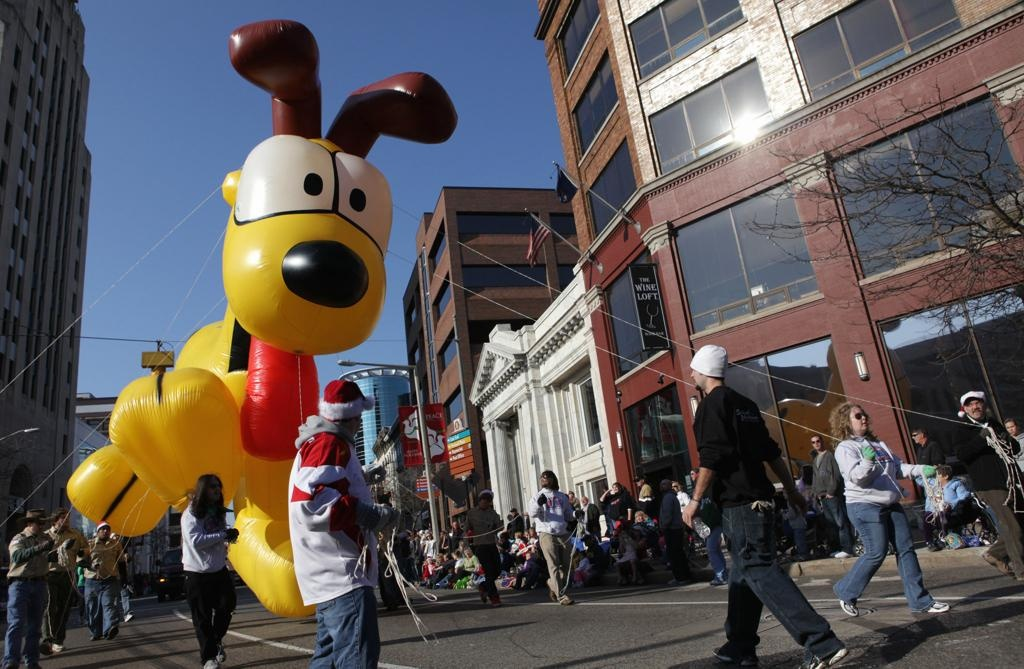human_face: (846, 406, 868, 430), (343, 411, 363, 431), (966, 399, 982, 419), (689, 367, 705, 386), (206, 480, 220, 500), (30, 518, 44, 534), (1002, 420, 1016, 435), (57, 512, 69, 526), (910, 431, 922, 444), (98, 526, 110, 538), (934, 470, 944, 482), (810, 437, 820, 449), (670, 482, 680, 492), (689, 470, 697, 482), (540, 474, 548, 486), (660, 479, 668, 490), (635, 512, 643, 522), (480, 497, 488, 507), (634, 478, 642, 486), (610, 484, 618, 492), (782, 491, 788, 499), (463, 548, 469, 556), (581, 498, 587, 504), (436, 556, 442, 562), (452, 522, 458, 528), (584, 537, 588, 544), (525, 554, 529, 558), (440, 532, 444, 536)
